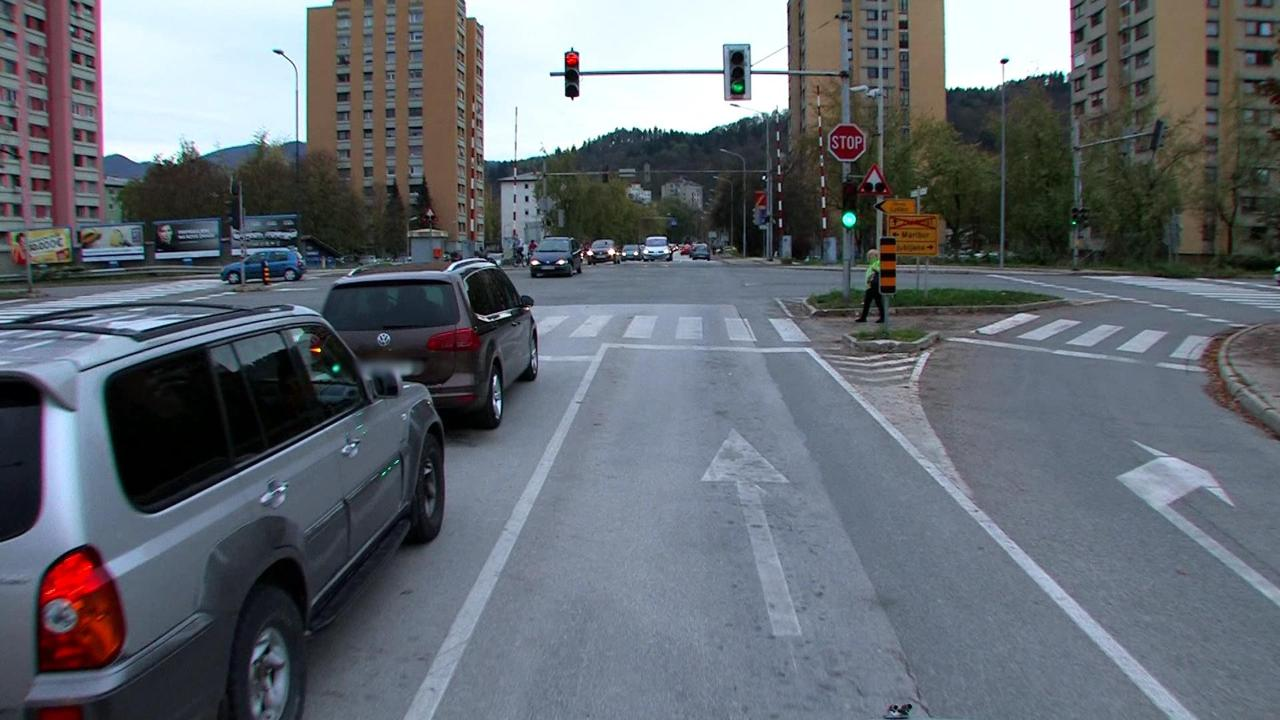Rectangle: (888, 215, 942, 259)
Stop: (830, 121, 866, 163)
Triangle: (858, 161, 892, 201)
